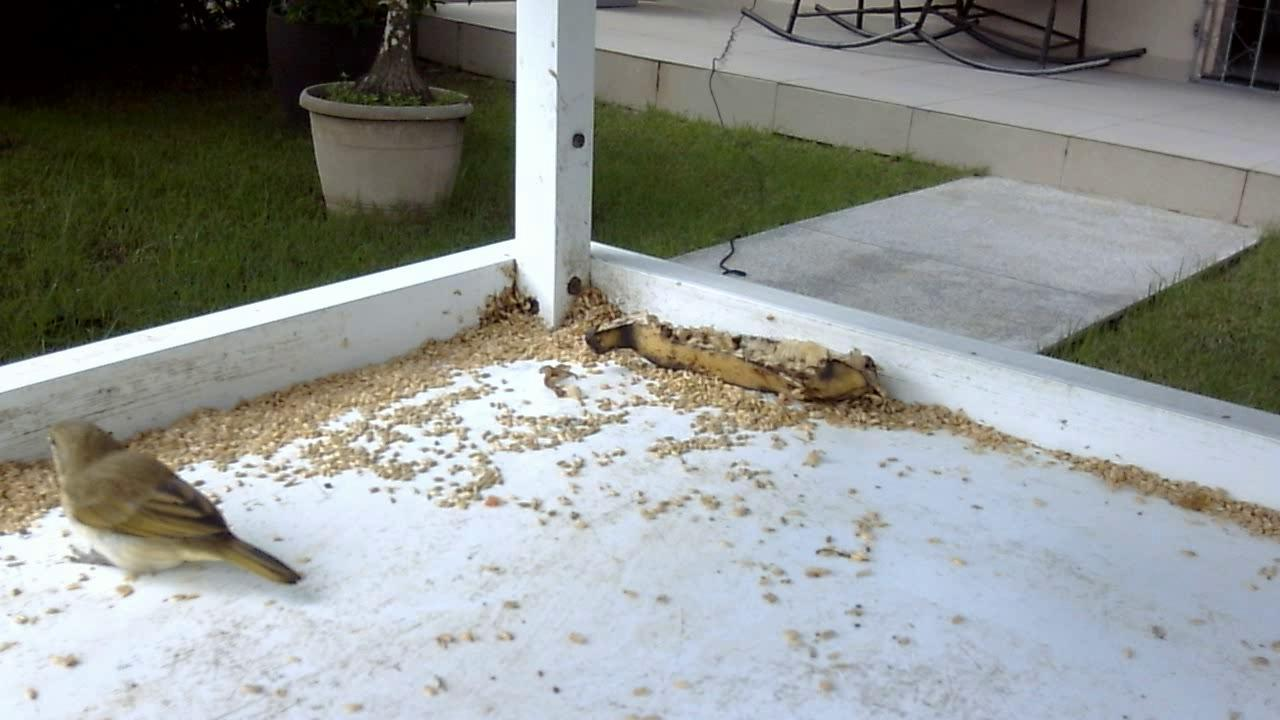canario_do_amazonas: (42, 404, 307, 603)
